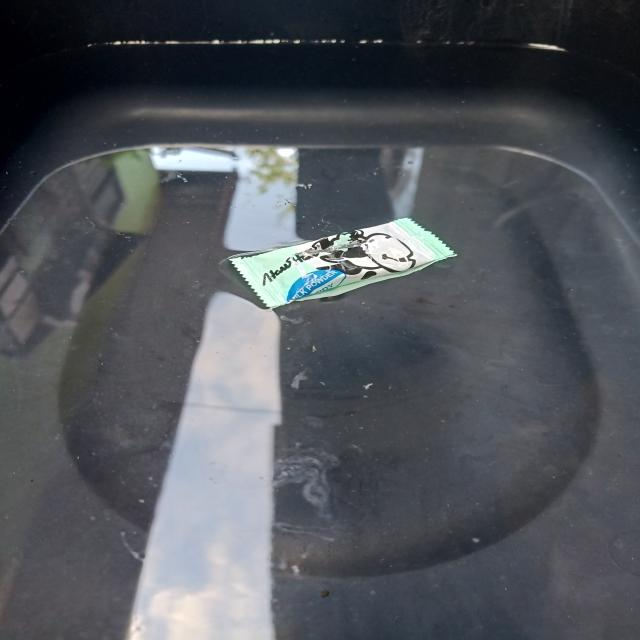Plastic Wrapper: (216, 206, 459, 312)
